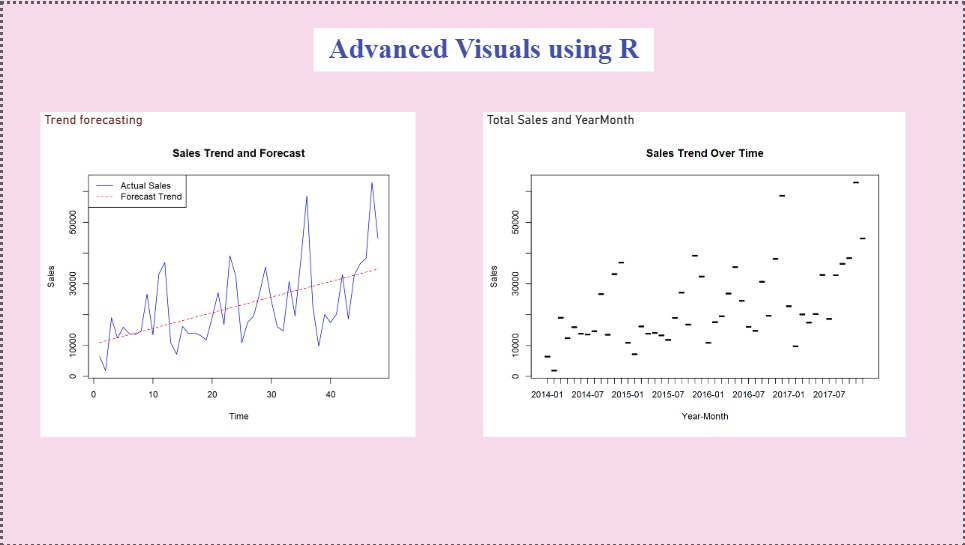

This screenshot's page, from the dashboard's own definition file:
{"tool":"powerbi","page":{"name":"Advanced Visuals - R","canvas":[1280,720],"ordinal":3},"visuals":[{"type":"scriptVisual","fields":{"Values":["FactSales.Total Sales","DimDate.YearMonth"]},"box":[640,143.3,563.3,433.3],"z":0},{"type":"textbox","box":[414,32,454,58],"z":1000},{"type":"scriptVisual","title":"Trend forecasting","fields":{"Values":["FactSales.Total Sales","DimDate.YearMonth"]},"box":[50,143.3,500,433.3],"z":2000}]}

Visuals, with their boxes in screenshot pixels (x1, y1, x2, y2), scaled from the page's 1280x720 canvas onto the 965x545 screenshot:
scriptVisual - FactSales.Total Sales x DimDate.YearMonth: bbox=(482, 108, 907, 436)
textbox: bbox=(312, 24, 654, 68)
"Trend forecasting" scriptVisual: bbox=(38, 108, 415, 436)
